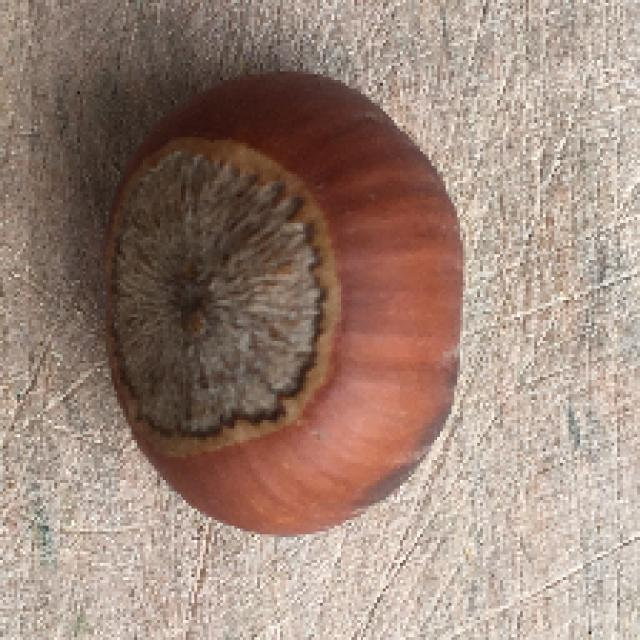damagedHazelnut: (99, 71, 461, 538)
